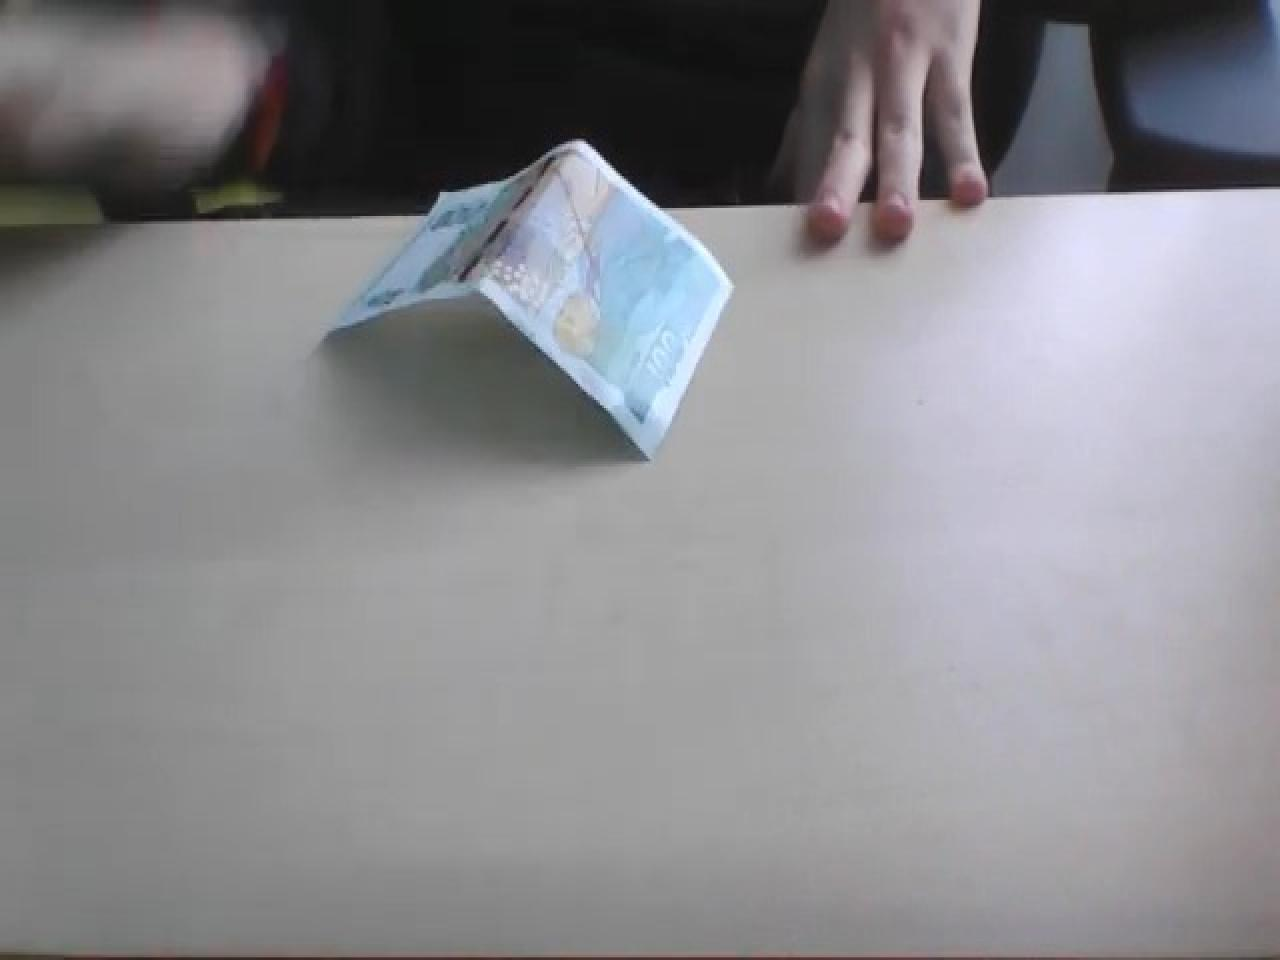100leva: (322, 133, 736, 462)
